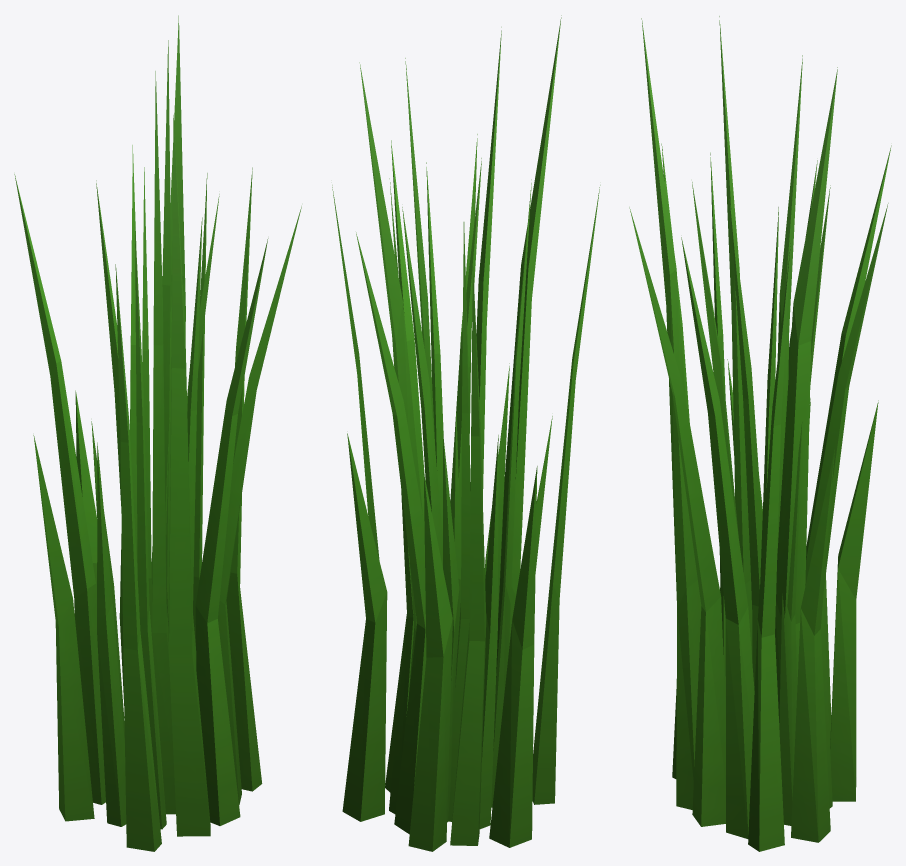
File: tallgrass_b.glb
3 views of the same model, side by side, from view 1: azimuth 30°, elevation 25°; view 2: azimuth 150°, elevation 25°; view 3: azimuth 270°, elevation 25° (orthographic).
Visible parts, largest first — view 1: GrassHigh_D_4; view 2: GrassHigh_D_4; view 3: GrassHigh_D_4.
Part boxes in pixels (<box>): GrassHigh_D_4: <box>14,15,301,851</box>; GrassHigh_D_4: <box>332,15,600,851</box>; GrassHigh_D_4: <box>629,16,891,851</box>.
Size of the model in its own units: 0.2456 by 0.85 by 0.2612.
1 material, 1 textured.
